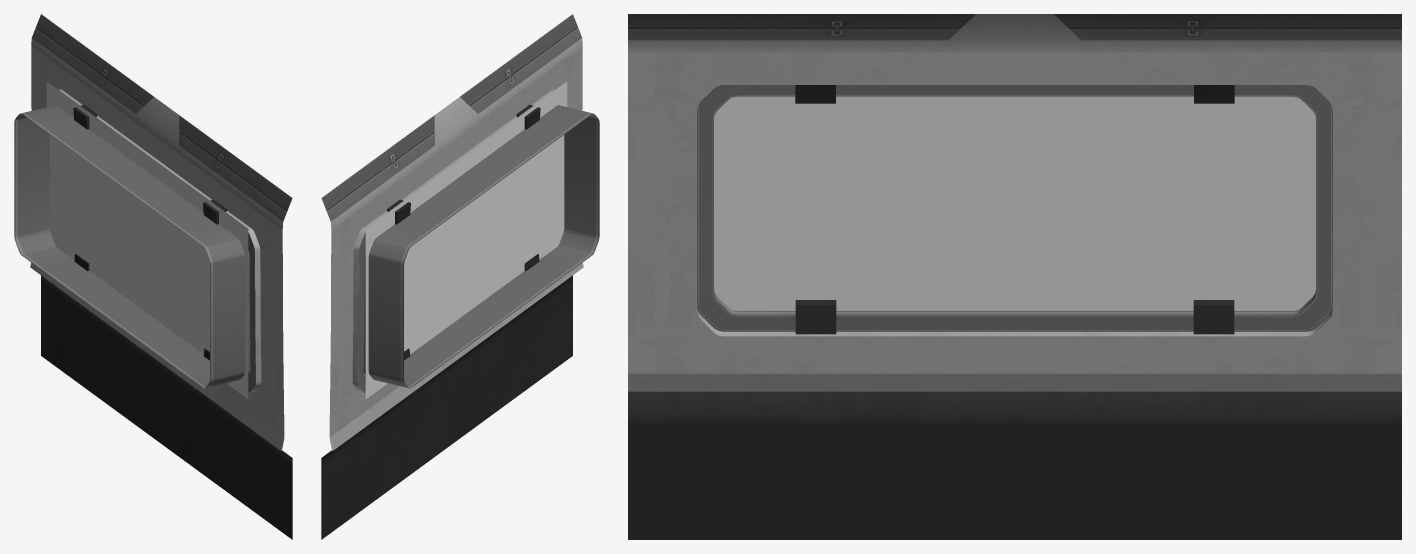
File: WallAstra_Straight_Flat_Window.gltf
3 views of the same model, side by side, from view 1: azimuth 30°, elevation 25°; view 2: azimuth 150°, elevation 25°; view 3: azimuth 270°, elevation 25° (orthographic). The views are drawn at different scales.
Parts seen in each view (by area): view 1: WallAstra_Straight_Flat_Window; view 2: WallAstra_Straight_Flat_Window; view 3: WallAstra_Straight_Flat_Window.
Boxes of the visible parts, x1,y1,x2,y2 form: WallAstra_Straight_Flat_Window: (14,14,292,539); WallAstra_Straight_Flat_Window: (321,14,599,539); WallAstra_Straight_Flat_Window: (628,14,1401,539).
Bounding box in the file's own units: 0.5015 × 3 × 4.
Materials: 5 (4 with a texture image).
